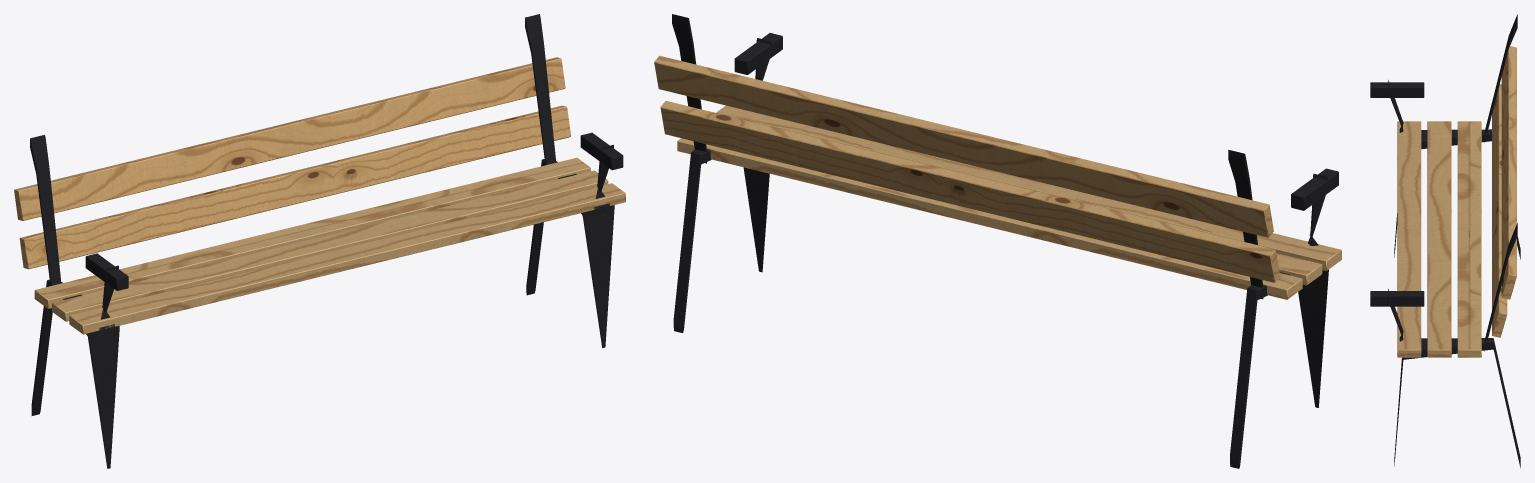
File: SM_QUE_Bench.fbx
3 views of the same model, side by side, from view 1: azimuth 30°, elevation 25°; view 2: azimuth 150°, elevation 25°; view 3: azimuth 270°, elevation 25° (orthographic). The views are drawn at different scales.
Visible parts, largest first — view 1: SM_QUE_Bench; view 2: SM_QUE_Bench; view 3: SM_QUE_Bench.
Boxes of the visible parts, x1,y1,x2,y2 form: SM_QUE_Bench: [14, 14, 625, 468]; SM_QUE_Bench: [654, 14, 1341, 468]; SM_QUE_Bench: [1370, 14, 1520, 468].
Bounding box in the file's own units: 1.8 × 0.8864 × 0.5.
